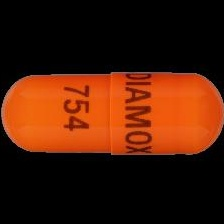51285-754: (0, 0, 224, 224)
